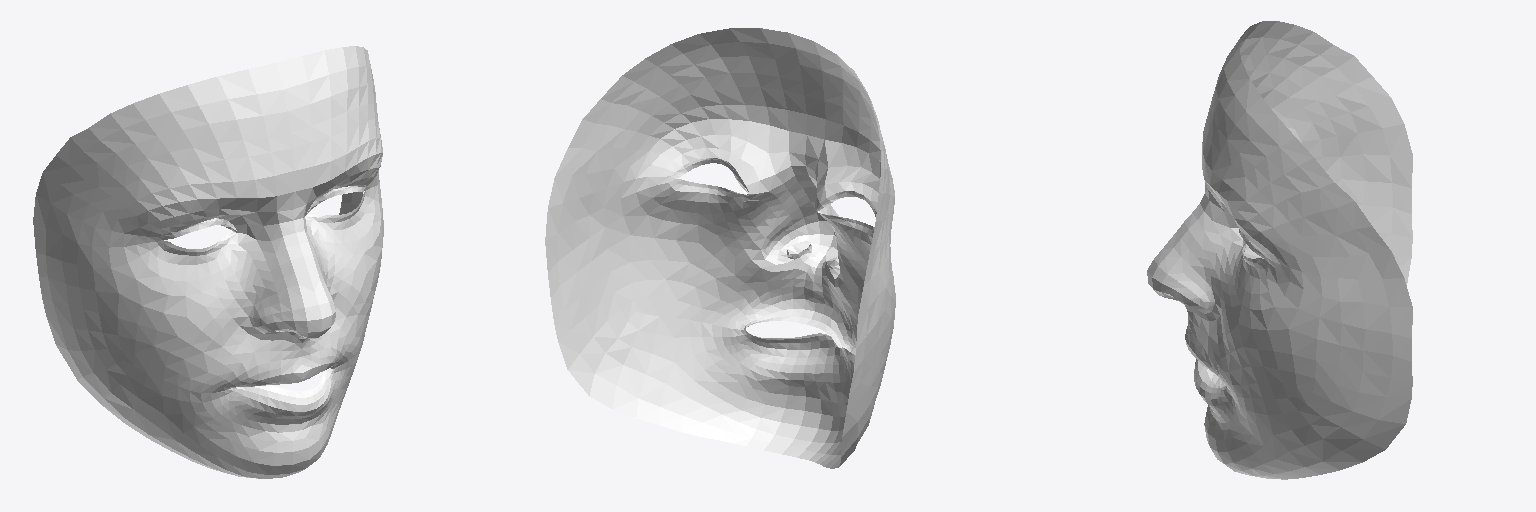
Rendered from mouthLowerDown_L.obj.
3 renders of one model, left to right at view 1: azimuth 30°, elevation 25°; view 2: azimuth 150°, elevation 25°; view 3: azimuth 270°, elevation 25°, orthographic.
Parts seen in each view (by area): view 1: default; view 2: default; view 3: default.
Part boxes in pixels (bbox=[...]): default: bbox=[33, 46, 383, 478]; default: bbox=[545, 28, 895, 468]; default: bbox=[1147, 21, 1412, 479].
Bounding box in the file's own units: 0.1447 × 0.1824 × 0.1055.